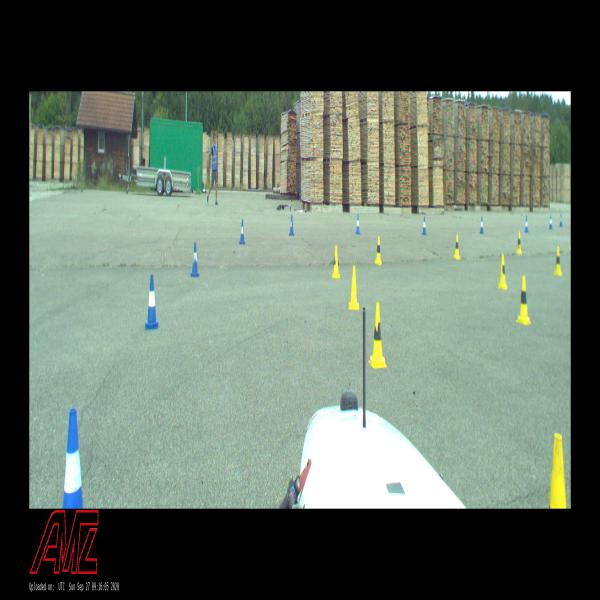blue_cone: (63, 410, 83, 508), (144, 276, 158, 330), (191, 243, 199, 277), (240, 219, 246, 244), (289, 214, 295, 236), (422, 217, 427, 235), (356, 215, 360, 234), (480, 217, 484, 234), (524, 217, 528, 232), (549, 215, 552, 229), (560, 214, 562, 226)
yellow_cone: (548, 434, 566, 508), (368, 304, 387, 369), (516, 276, 531, 325), (348, 266, 360, 309), (498, 255, 508, 290), (332, 246, 340, 278), (554, 247, 562, 275), (375, 237, 382, 265), (454, 235, 461, 260), (516, 232, 522, 254)
